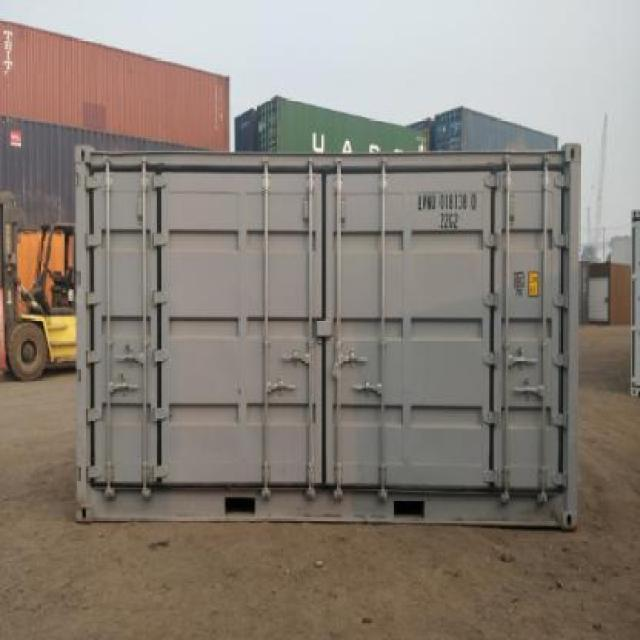ISO: (441, 213, 460, 227)
container_number: (411, 190, 481, 208)
